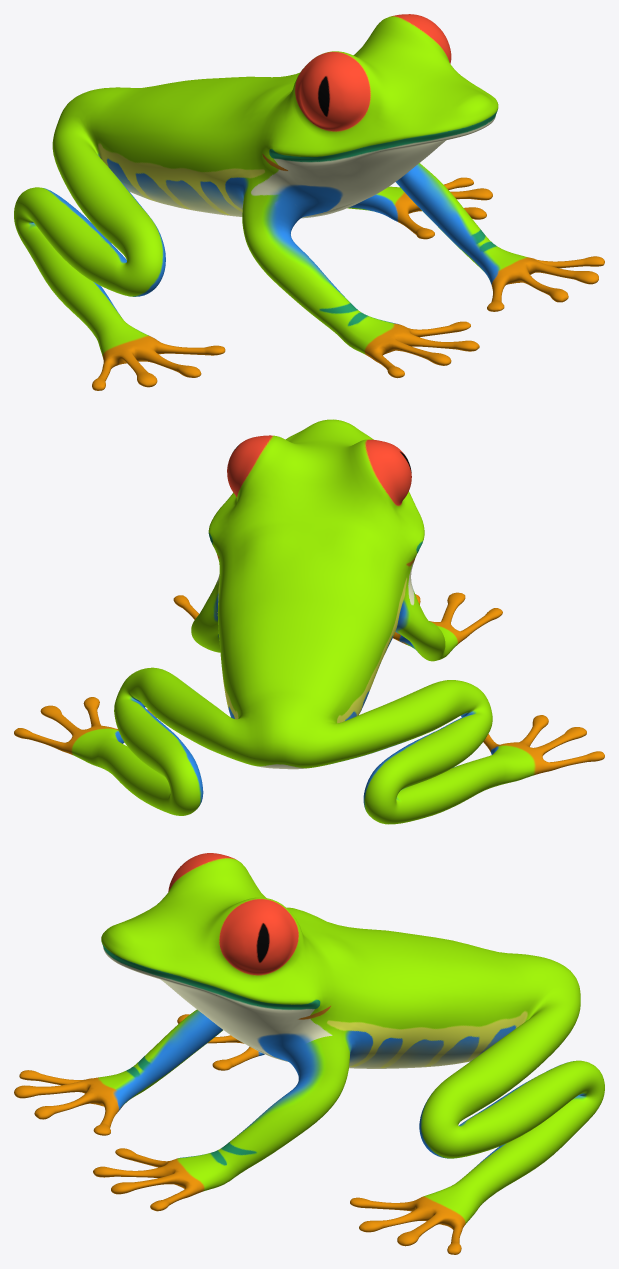
Rendered from ranita.glb.
3 views of the same model, one above another, from view 1: azimuth 30°, elevation 25°; view 2: azimuth 150°, elevation 25°; view 3: azimuth 270°, elevation 25° (orthographic). The views are drawn at different scales.
Visible parts, largest first — view 1: node_id47; view 2: node_id47; view 3: node_id47.
Part boxes in pixels (left/top/right/bottom): node_id47: left=14, top=14, right=604, bottom=390; node_id47: left=14, top=419, right=604, bottom=824; node_id47: left=14, top=853, right=604, bottom=1254.
Bounding box in the file's own units: 0.4707 × 0.2554 × 0.488.
Materials: 1 (1 with a texture image).
